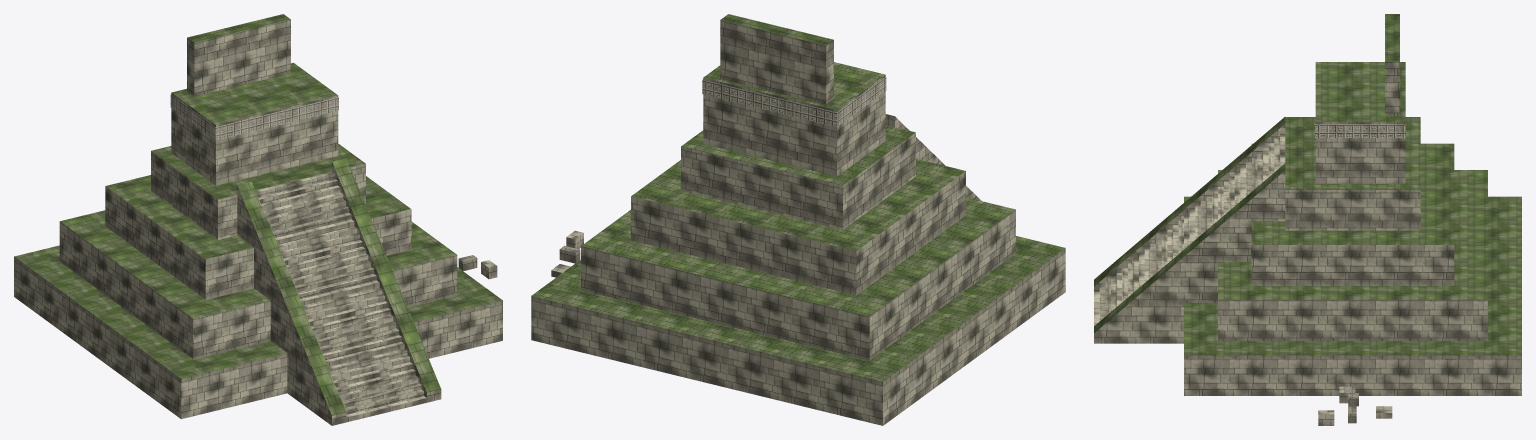
Rendered from ruin-temple-a.zfix-v11.lod1.glb.
The picture shows the model from 3 angles, left to right: view 1: azimuth 30°, elevation 25°; view 2: azimuth 150°, elevation 25°; view 3: azimuth 270°, elevation 25°; orthographic projection. The views are drawn at different scales.
Parts seen in each view (by area): view 1: ruin-temple-a; view 2: ruin-temple-a; view 3: ruin-temple-a.
Part boxes in pixels (x1,y1,x2,y2): ruin-temple-a: (14, 14, 502, 425); ruin-temple-a: (531, 14, 1065, 425); ruin-temple-a: (1094, 14, 1521, 425).
Size of the model in its own units: 23.78 by 16.4 by 22.8.
Materials: 3 (3 with a texture image).
